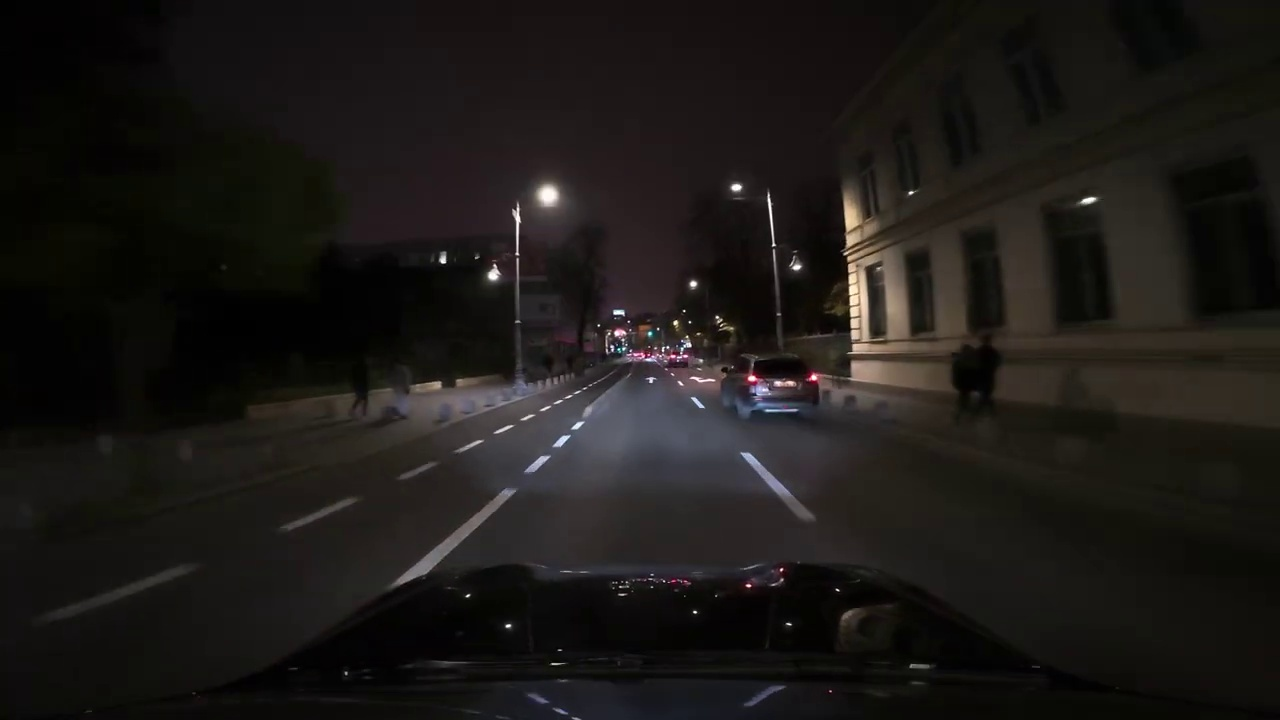acesa: (532, 181, 561, 209)
